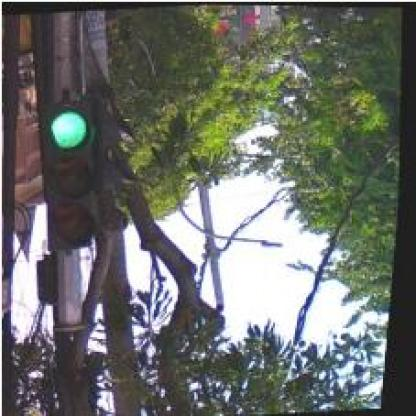green: (38, 98, 104, 250)
